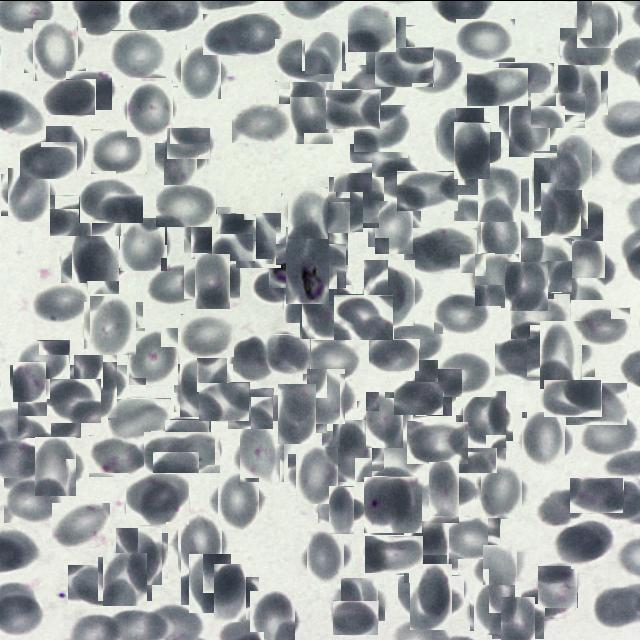red blood cell: (360, 262, 419, 321), (66, 230, 125, 288), (404, 226, 478, 272), (126, 472, 190, 524), (203, 13, 284, 54), (144, 430, 221, 472), (284, 82, 340, 138), (50, 193, 122, 236), (533, 327, 589, 382), (530, 152, 584, 208), (404, 569, 458, 624), (78, 176, 142, 222), (126, 328, 180, 382), (28, 22, 82, 76), (557, 240, 611, 294), (400, 524, 454, 578), (292, 276, 346, 330), (68, 359, 122, 412), (553, 518, 615, 564), (495, 336, 559, 380), (177, 361, 230, 414), (87, 298, 140, 351), (520, 238, 574, 290), (511, 292, 571, 338), (276, 226, 348, 264), (174, 516, 226, 568), (124, 82, 176, 134), (113, 529, 165, 581), (436, 110, 488, 162), (236, 424, 288, 476), (334, 294, 394, 339), (111, 29, 167, 77), (407, 420, 469, 463), (4, 477, 63, 522), (504, 100, 555, 152), (518, 414, 569, 466), (474, 165, 524, 218), (108, 397, 171, 439), (354, 104, 410, 151), (147, 263, 211, 304), (185, 557, 236, 608), (328, 424, 378, 476), (410, 46, 464, 94), (438, 348, 492, 396), (91, 127, 147, 173), (566, 382, 627, 424), (52, 502, 110, 546), (554, 68, 605, 118), (68, 564, 130, 605), (456, 18, 515, 61), (275, 38, 334, 81), (89, 434, 149, 476), (156, 184, 216, 226), (213, 476, 263, 526), (292, 450, 342, 500), (452, 418, 502, 468), (118, 218, 168, 268), (460, 394, 510, 444), (332, 174, 382, 224), (30, 441, 80, 491), (272, 388, 322, 438), (233, 214, 283, 264), (434, 290, 492, 333), (397, 170, 459, 210), (350, 135, 409, 177), (372, 157, 431, 199), (303, 339, 360, 382), (581, 411, 638, 454), (248, 592, 299, 640), (472, 254, 520, 304), (100, 554, 150, 602), (18, 399, 81, 437), (30, 282, 88, 323), (47, 378, 101, 422), (375, 46, 434, 86), (4, 170, 53, 218), (362, 20, 411, 68), (383, 321, 443, 360), (467, 67, 528, 105), (446, 516, 501, 558), (341, 62, 396, 104), (477, 208, 525, 256), (478, 467, 526, 515), (181, 313, 234, 356), (532, 484, 586, 526), (232, 103, 290, 142), (177, 47, 224, 95), (410, 364, 458, 411), (302, 371, 349, 419), (348, 4, 396, 51), (365, 534, 424, 572), (188, 208, 234, 256), (502, 262, 550, 308), (538, 184, 584, 232), (284, 188, 330, 236), (544, 378, 602, 416), (20, 140, 78, 178), (372, 203, 418, 250), (448, 126, 495, 172), (326, 88, 380, 128), (560, 27, 611, 69), (302, 534, 348, 580), (362, 396, 408, 442), (472, 586, 518, 632), (422, 468, 468, 514), (552, 139, 598, 185), (211, 213, 257, 259), (189, 258, 235, 304), (576, 306, 631, 344), (574, 0, 621, 44), (208, 570, 252, 616), (199, 381, 250, 420), (499, 62, 554, 98), (531, 91, 586, 127), (20, 339, 70, 378), (570, 476, 624, 512), (338, 580, 382, 624), (43, 78, 96, 114), (43, 126, 86, 170), (228, 387, 274, 428), (516, 588, 574, 620), (229, 338, 271, 382), (560, 198, 603, 240), (479, 548, 522, 590), (321, 190, 364, 232), (66, 70, 112, 109), (160, 138, 202, 180), (448, 172, 490, 214), (497, 599, 540, 640), (268, 333, 311, 373), (538, 564, 578, 607), (394, 380, 444, 414), (369, 338, 420, 370), (333, 599, 379, 634), (304, 32, 344, 72), (164, 418, 210, 452), (167, 126, 211, 158), (324, 490, 361, 528), (12, 362, 48, 400)
ring: (364, 476, 422, 533)
trophozoite: (278, 235, 338, 295)
